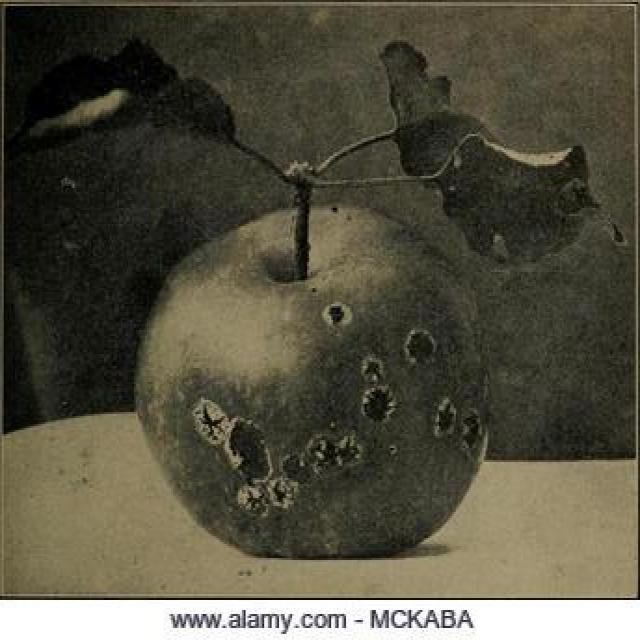Rotten: (142, 198, 494, 569)
